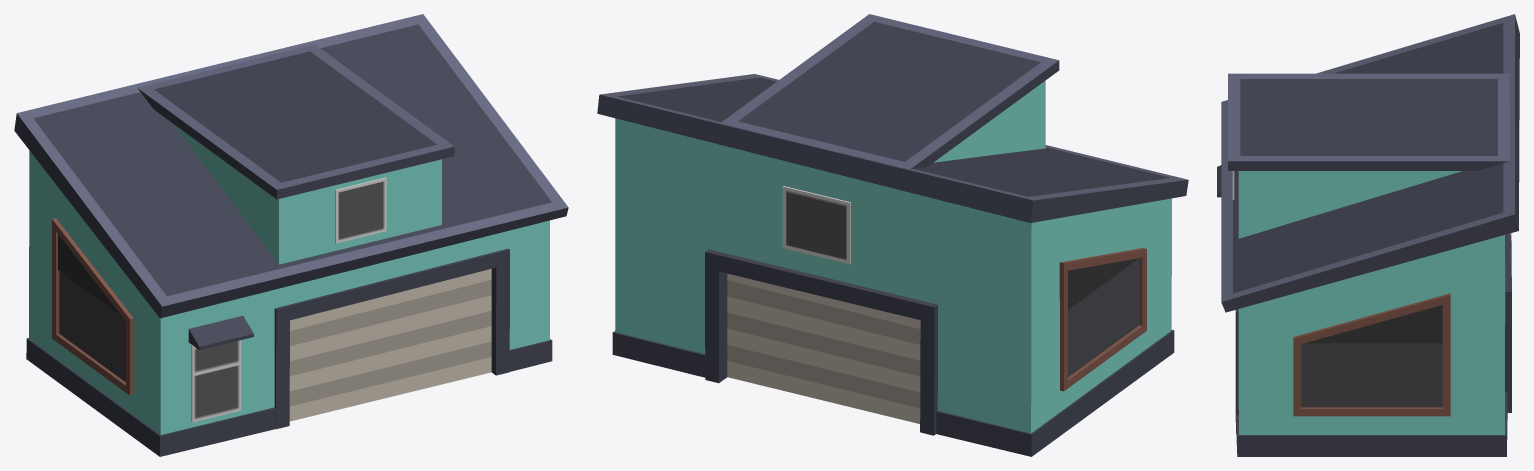
Rendered from garage01_color03.fbx.
3 renders of one model, left to right at view 1: azimuth 30°, elevation 25°; view 2: azimuth 150°, elevation 25°; view 3: azimuth 270°, elevation 25°, orthographic. The views are drawn at different scales.
Parts seen in each view (by area): view 1: garage01_color03; view 2: garage01_color03; view 3: garage01_color03.
Boxes of the visible parts, left/top/right/bottom form: garage01_color03: left=14, top=14, right=568, bottom=456; garage01_color03: left=597, top=14, right=1188, bottom=456; garage01_color03: left=1217, top=14, right=1519, bottom=456.
Bounding box in the file's own units: 997 × 573 × 637.
